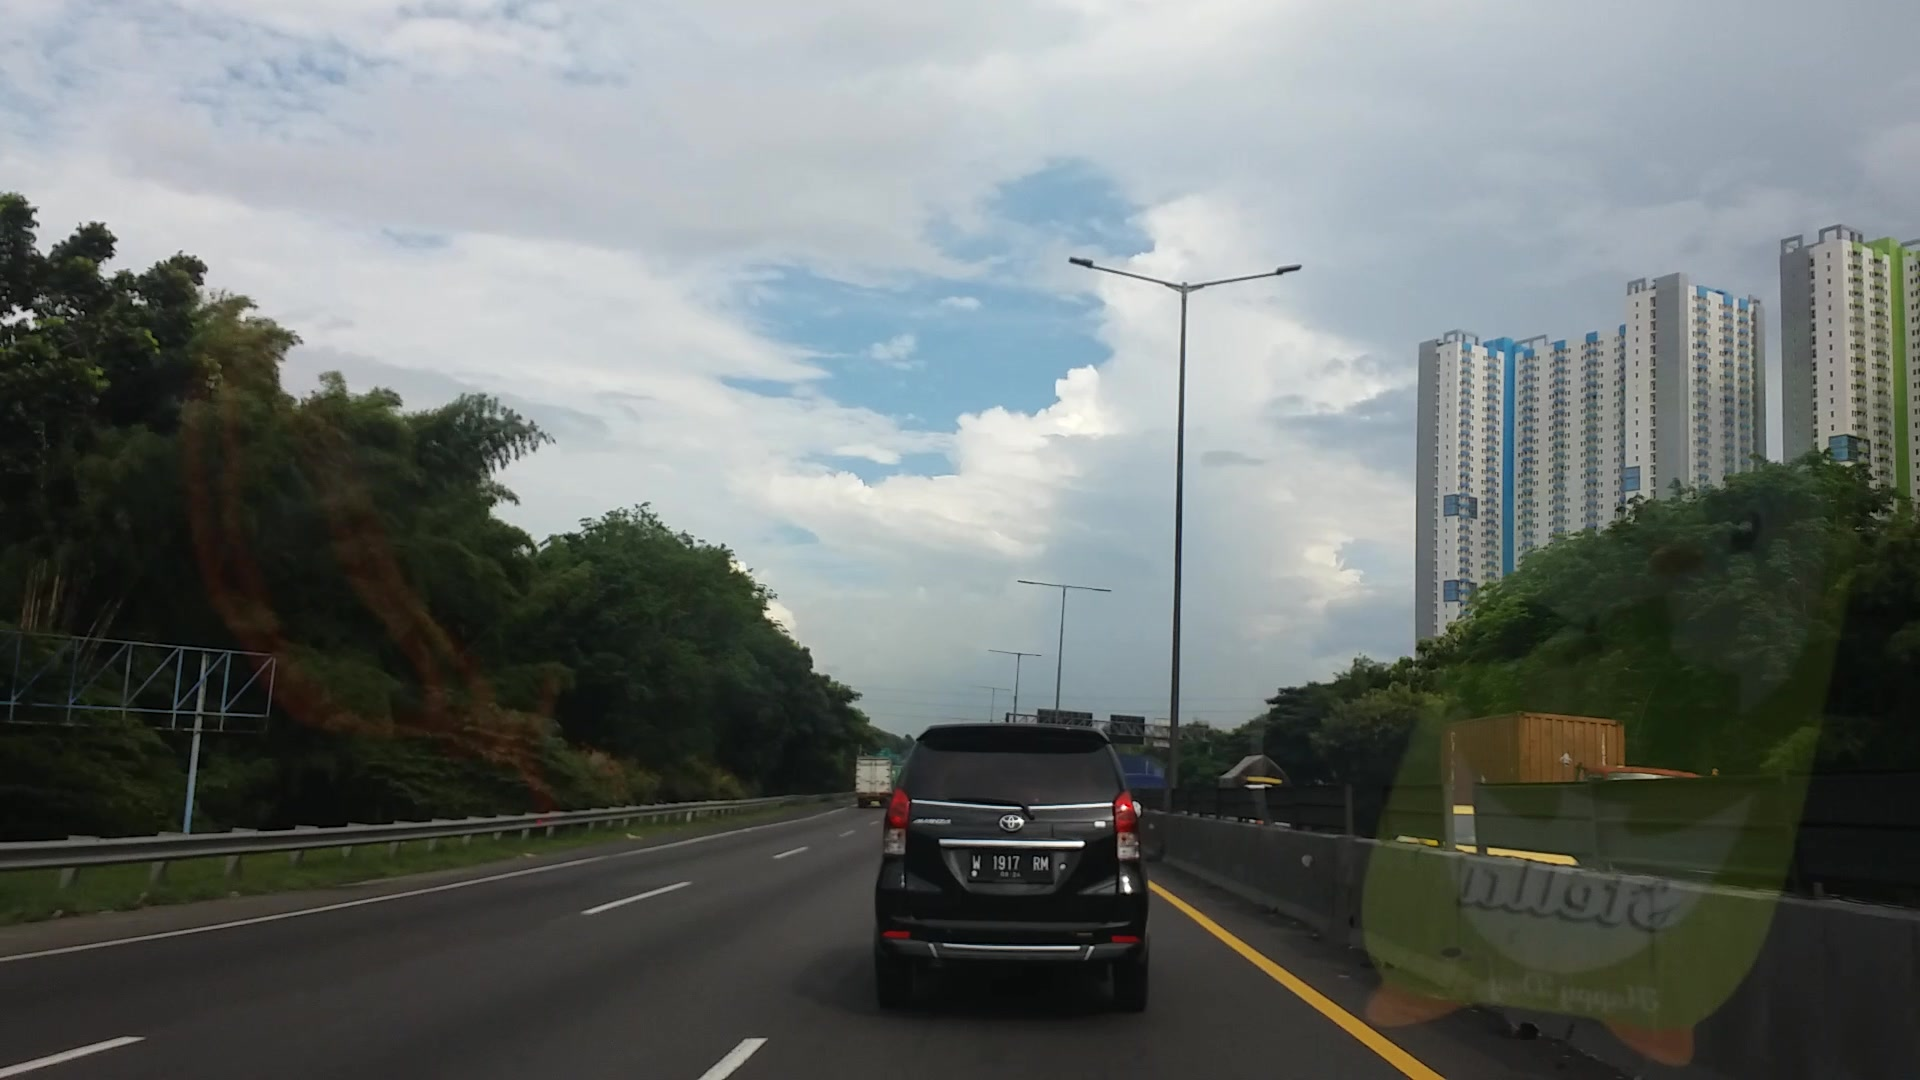plate_positive: (968, 851, 1052, 880)
